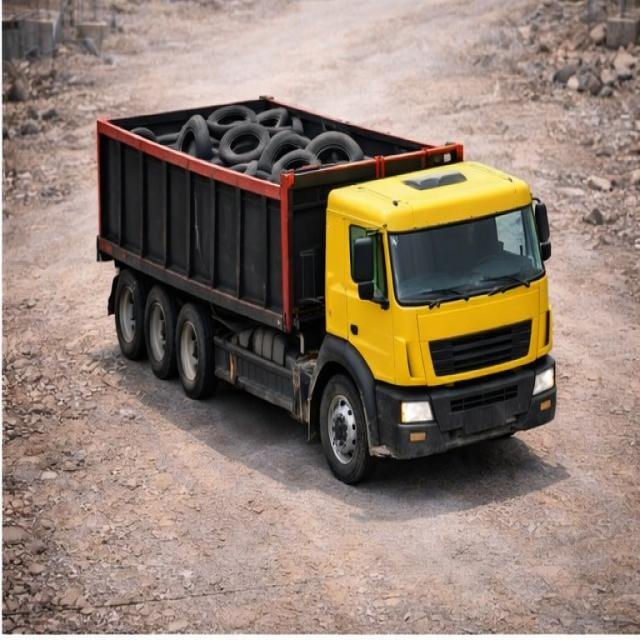trailer: (92, 98, 464, 182)
truck: (82, 55, 558, 454)
